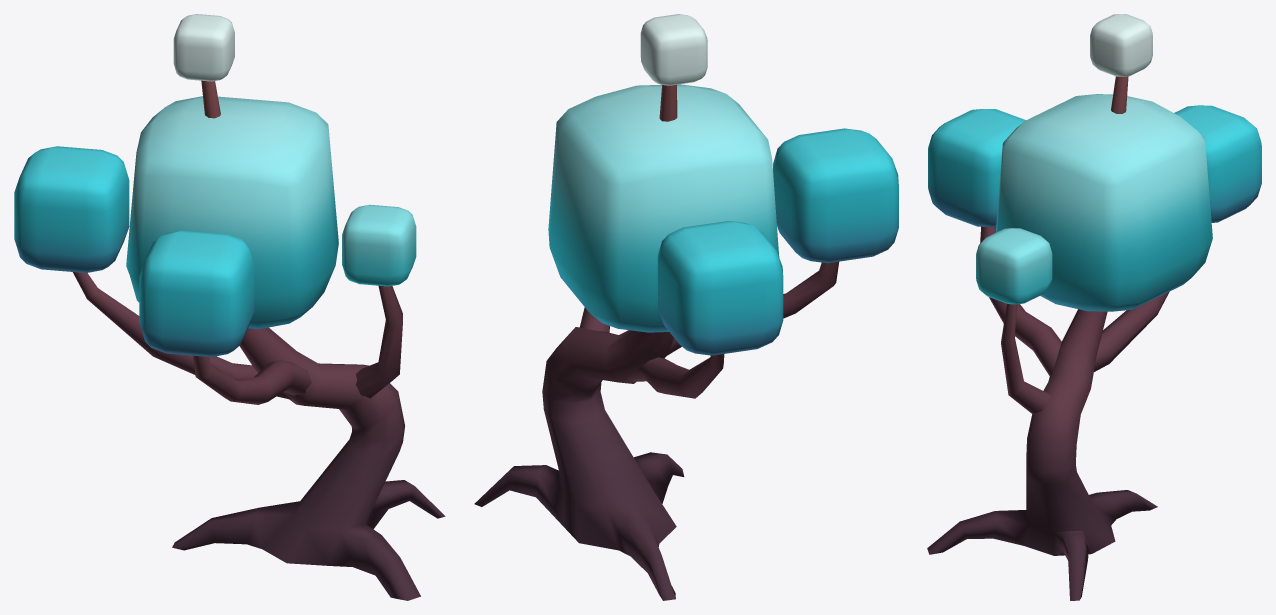
File: tree_winter1.fbx
3 renders of one model, left to right at view 1: azimuth 30°, elevation 25°; view 2: azimuth 150°, elevation 25°; view 3: azimuth 270°, elevation 25°, orthographic. The views are drawn at different scales.
Parts seen in each view (by area): view 1: model_0.006; view 2: model_0.006; view 3: model_0.006.
Part boxes in pixels (x1,y1,x2,y2): model_0.006: (14,14,445,600); model_0.006: (474,14,898,600); model_0.006: (927,14,1261,600).
Bounding box in the file's own units: 2853 × 4062 × 2517.
